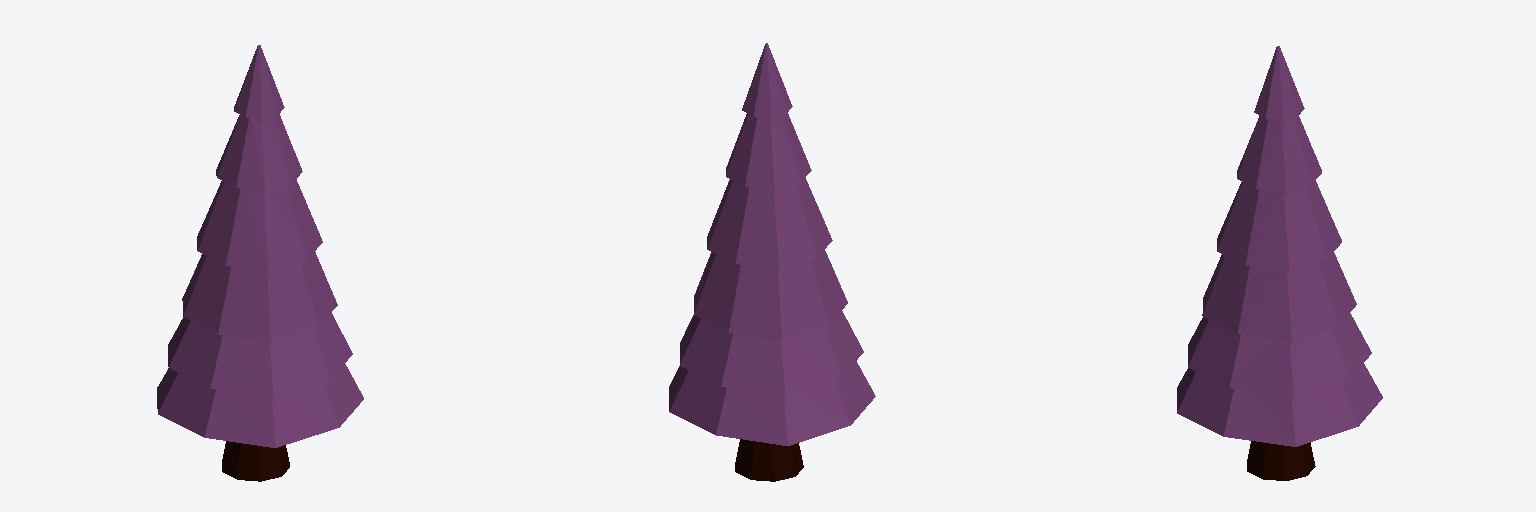
File: awesomeTree.obj
The picture shows the model from 3 angles: view 1: azimuth 30°, elevation 25°; view 2: azimuth 150°, elevation 25°; view 3: azimuth 270°, elevation 25°; orthographic projection.
Visible parts, largest first — view 1: Object.1, Object.2; view 2: Object.1, Object.2; view 3: Object.1, Object.2.
Boxes of the visible parts, box(x1,y1,x2,y2) form: Object.1: box(157, 45, 363, 447); Object.2: box(222, 441, 289, 481); Object.1: box(669, 43, 875, 445); Object.2: box(735, 439, 803, 481); Object.1: box(1177, 46, 1382, 446); Object.2: box(1247, 441, 1315, 480).
Size of the model in its own units: 58.56 by 130 by 57.81.